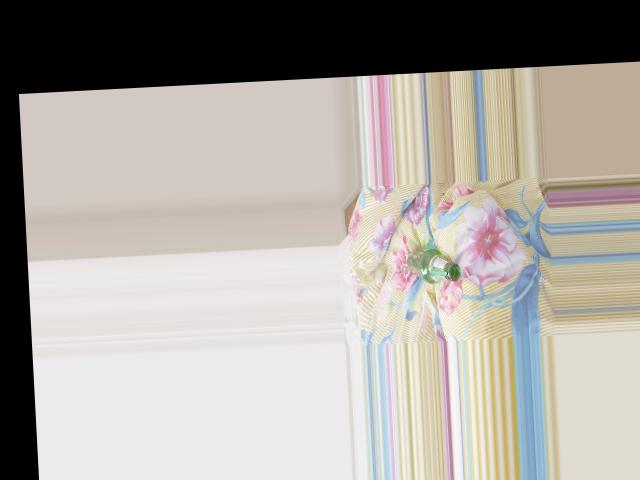beer: (407, 248, 461, 284)
